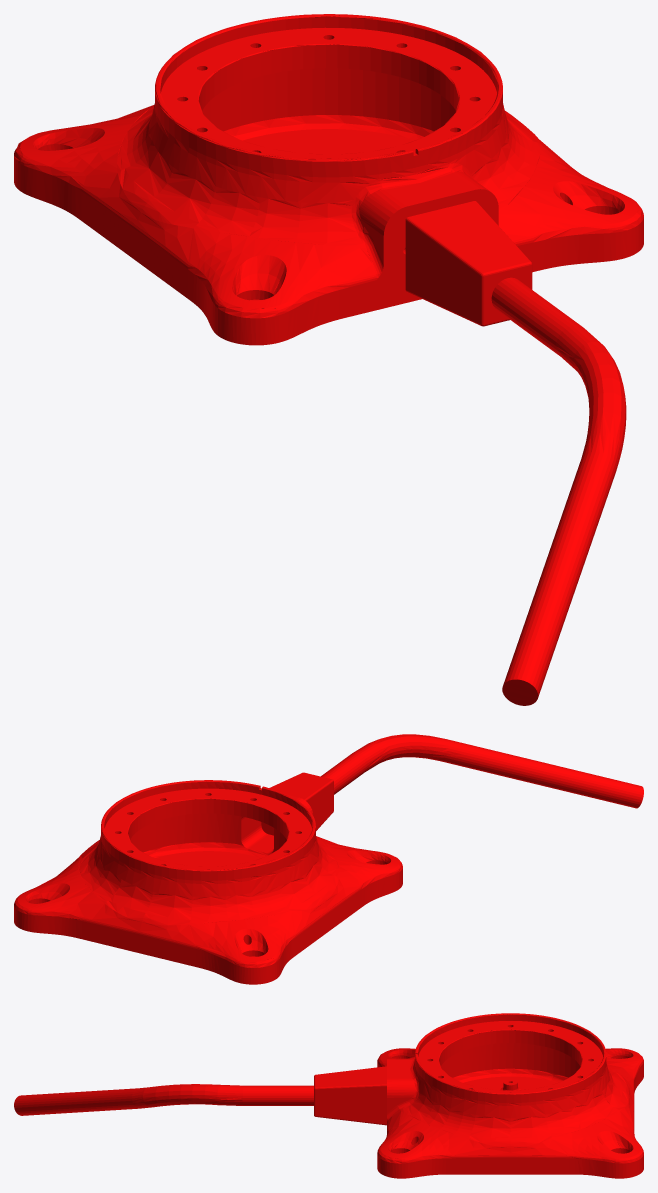
3 renders of one model, top to bottom at view 1: azimuth 30°, elevation 25°; view 2: azimuth 150°, elevation 25°; view 3: azimuth 270°, elevation 25°, orthographic. The views are drawn at different scales.
Visible parts, largest first — view 1: MF0609_0_0; view 2: MF0609_0_0; view 3: MF0609_0_0.
Part boxes in pixels (x1=…): MF0609_0_0: x1=14, y1=14, x2=643, y2=705; MF0609_0_0: x1=14, y1=734, x2=643, y2=984; MF0609_0_0: x1=14, y1=1013, x2=643, y2=1178.
Bounding box in the file's own units: 206 × 431 × 97.25.
